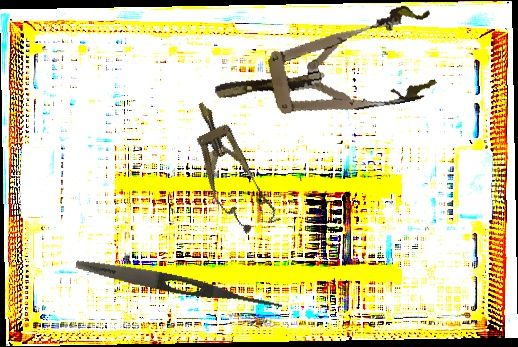Dressing Forceps: (74, 255, 284, 314)
Speculum: (206, 1, 446, 138), (176, 92, 282, 241)
